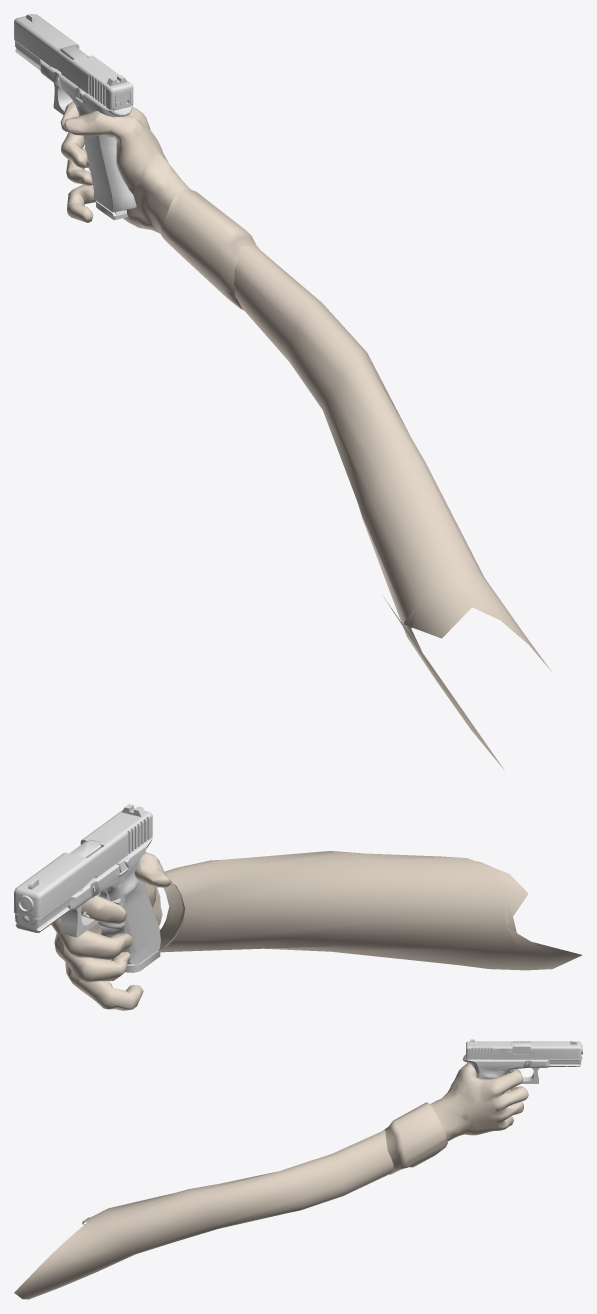
The model's file is g22_posed.glb.
The picture shows the model from 3 angles, top to bottom: view 1: azimuth 30°, elevation 25°; view 2: azimuth 150°, elevation 25°; view 3: azimuth 270°, elevation 25°; orthographic projection. The views are drawn at different scales.
Parts seen in each view (by area): view 1: char, body, slide; view 2: char, body, slide, mag; view 3: char, slide, body.
Boxes of the visible parts, x1=… form: char: x1=60, y1=101, x2=551, y2=770; body: x1=14, y1=40, x2=136, y2=212; slide: x1=14, y1=14, x2=133, y2=110; char: x1=51, y1=851, x2=582, y2=1010; body: x1=15, y1=837, x2=160, y2=964; slide: x1=14, y1=804, x2=152, y2=927; mag: x1=125, y1=950, x2=160, y2=972; char: x1=14, y1=1062, x2=528, y2=1299; slide: x1=466, y1=1039, x2=581, y2=1061; body: x1=462, y1=1042, x2=582, y2=1083.
Size of the model in its own units: 0.1672 by 0.4584 by 0.9497.
